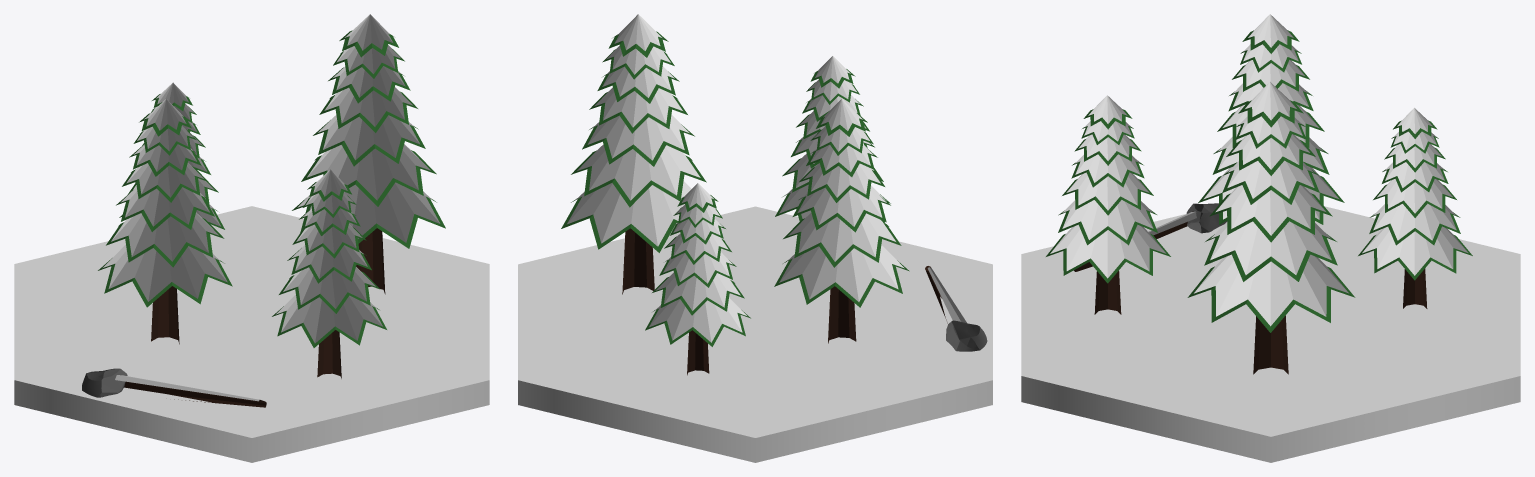
Rendered from Tile_16.FBX.
3 views of the same model, side by side, from view 1: azimuth 30°, elevation 25°; view 2: azimuth 150°, elevation 25°; view 3: azimuth 270°, elevation 25° (orthographic). The views are drawn at different scales.
Parts seen in each view (by area): view 1: Ground; view 2: Ground; view 3: Ground.
Boxes of the visible parts, <box> form: Ground: <box>14,14,489,462</box>; Ground: <box>518,14,992,462</box>; Ground: <box>1021,14,1520,462</box>.
Bounding box in the file's own units: 39.37 × 24.1 × 34.1.
